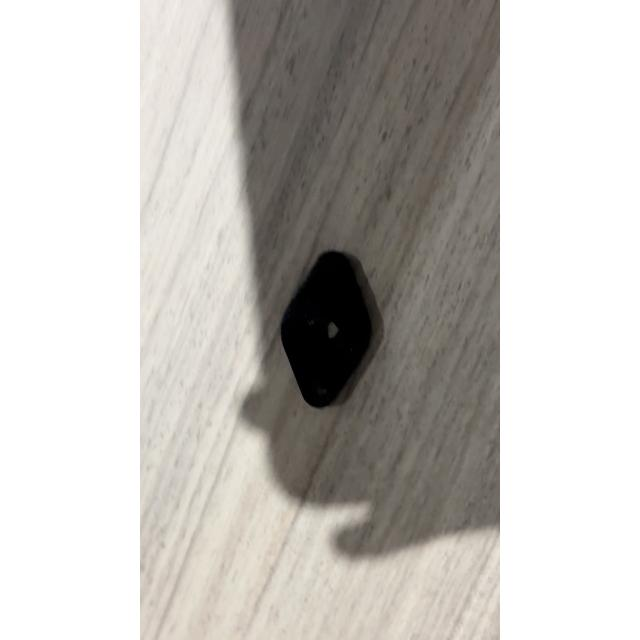Pieza_2: (268, 240, 394, 422)
